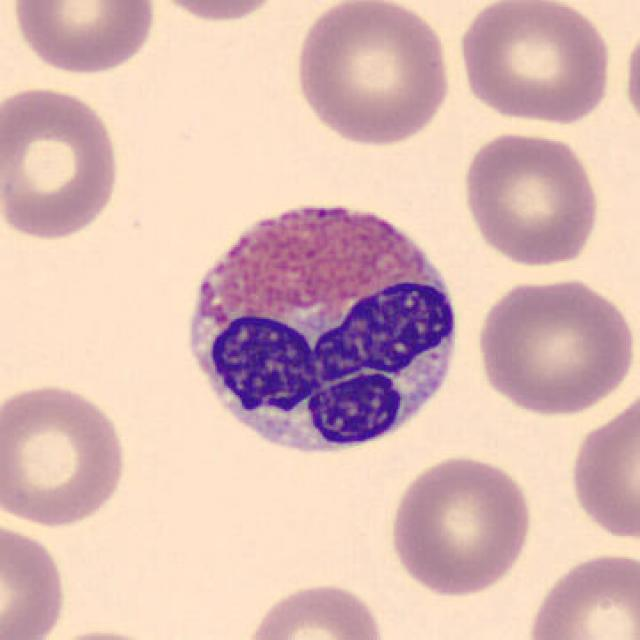Eosinophil: (167, 178, 473, 473)
RBC: (290, 0, 455, 148), (471, 273, 637, 418), (384, 451, 537, 598), (458, 127, 604, 268), (453, 0, 615, 127), (0, 81, 126, 243), (0, 377, 132, 531), (564, 382, 638, 544), (7, 0, 160, 78), (521, 548, 640, 640), (239, 576, 389, 640), (0, 518, 71, 640), (140, 0, 293, 26), (620, 16, 640, 143), (30, 624, 178, 640)
